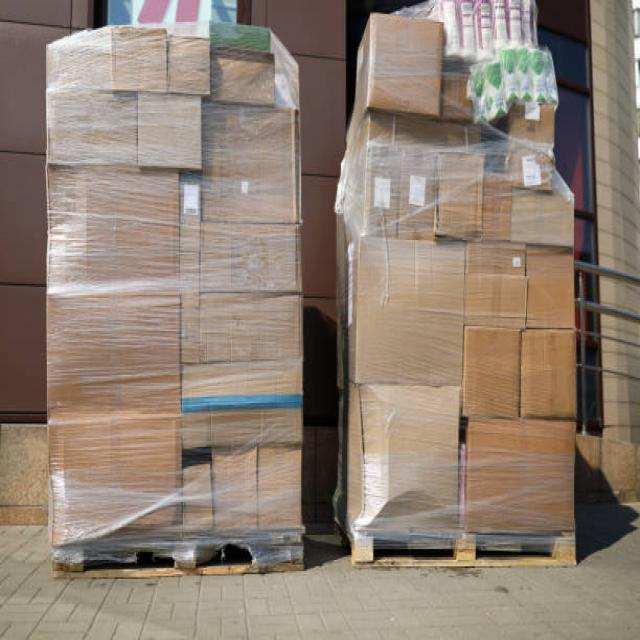Wooden-Pallets: (53, 530, 303, 586), (354, 528, 584, 578)
